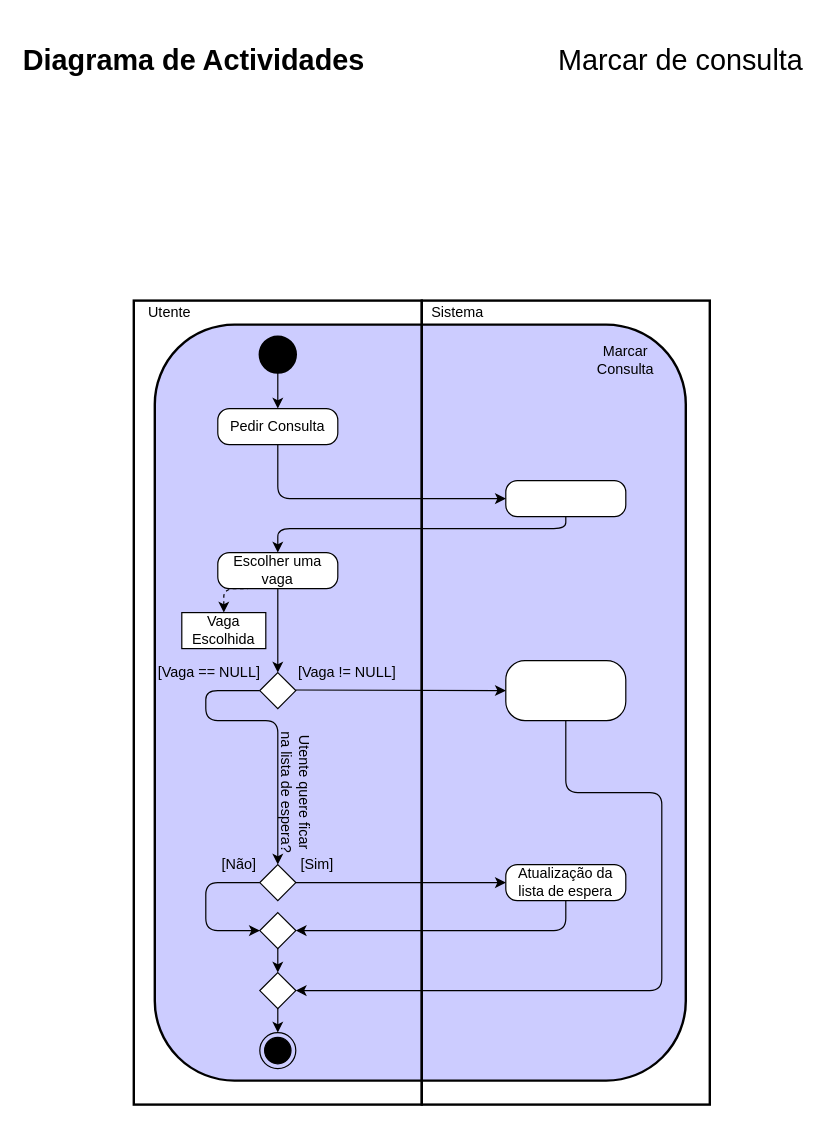
Some shapes in this 826 by 1126 pixel diagram are drawn without their labels. The shapes that lost their labels are listed below. From the top down, each one's centre as x and y in pixels, then its label:
At point (565, 498): "Mostrar vagas relevantes".
At point (565, 690): "Atualização da vaga e consulta no B.D.".
